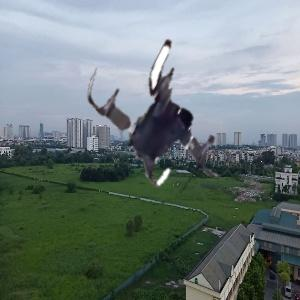drone: (81, 22, 261, 202)
